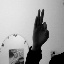f: (32, 7, 50, 47)
